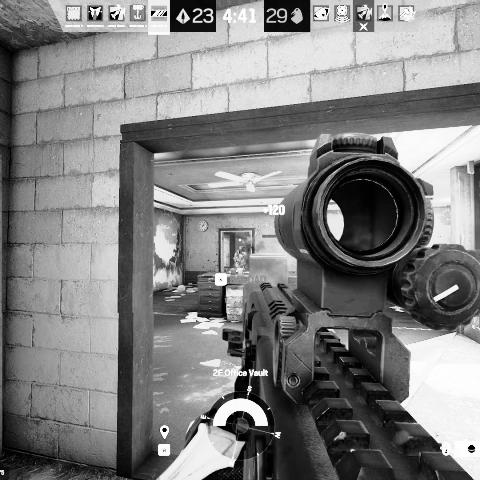Character: (233, 246, 249, 272)
Head: (241, 246, 246, 252)
